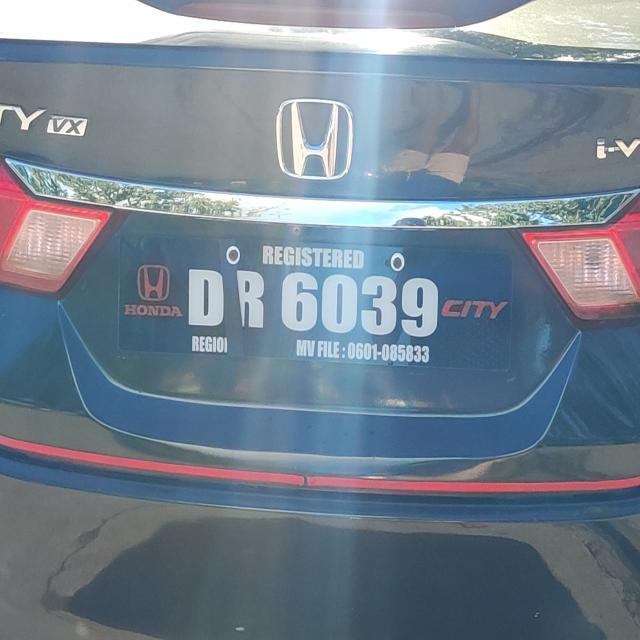plate: (110, 220, 520, 389)
